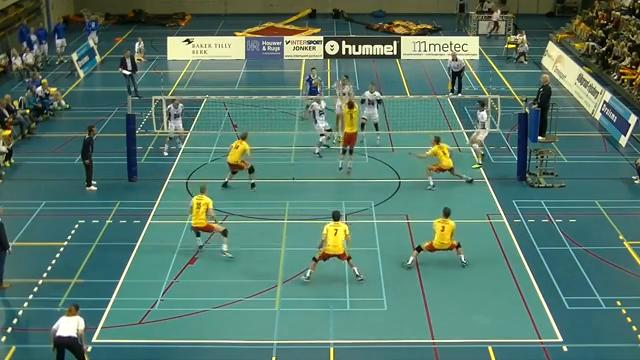Attack: (331, 71, 352, 141)
Block: (332, 82, 360, 174)
Player: (302, 211, 363, 281), (403, 207, 467, 267), (409, 136, 472, 189), (189, 184, 232, 257), (222, 132, 255, 190), (309, 96, 331, 157), (360, 82, 381, 143), (469, 100, 488, 167), (163, 99, 183, 155), (305, 67, 322, 98)
ball: (311, 79, 321, 88)
